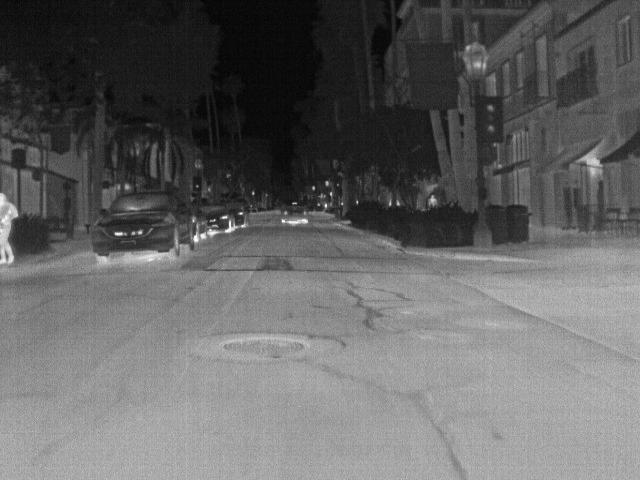car: (91, 190, 195, 261), (202, 202, 233, 234), (188, 202, 208, 242), (223, 199, 249, 228), (281, 204, 309, 226)
person: (0, 192, 21, 266), (427, 194, 437, 209)
